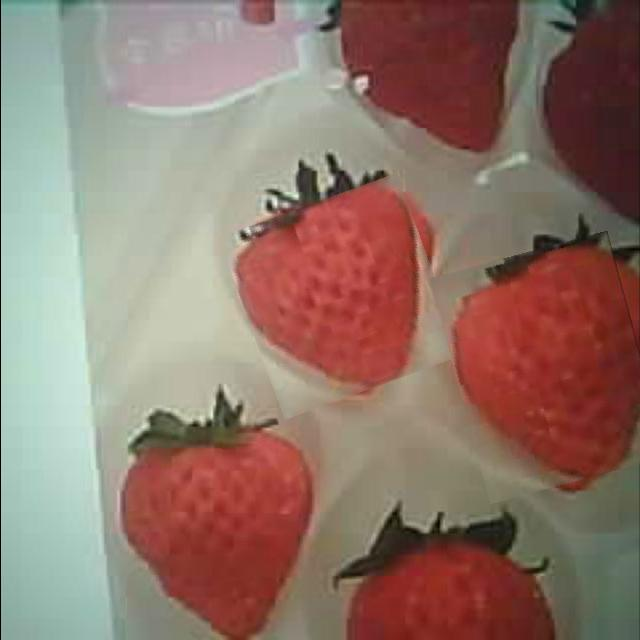strawberry: (443, 241, 640, 494), (231, 186, 448, 406), (126, 420, 314, 636)
